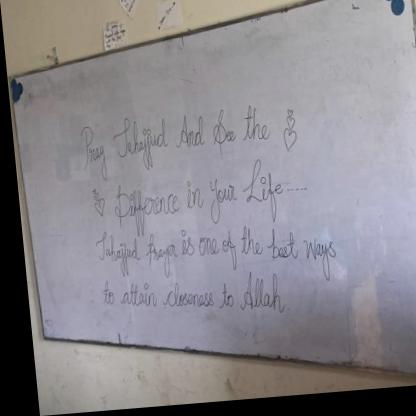Handwritten text: (72, 96, 274, 182), (104, 159, 285, 234), (85, 224, 335, 274), (87, 270, 280, 325)
Whiteboard: (12, 0, 416, 381)
